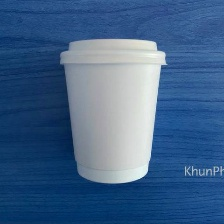paper_cup: (53, 32, 170, 187)
